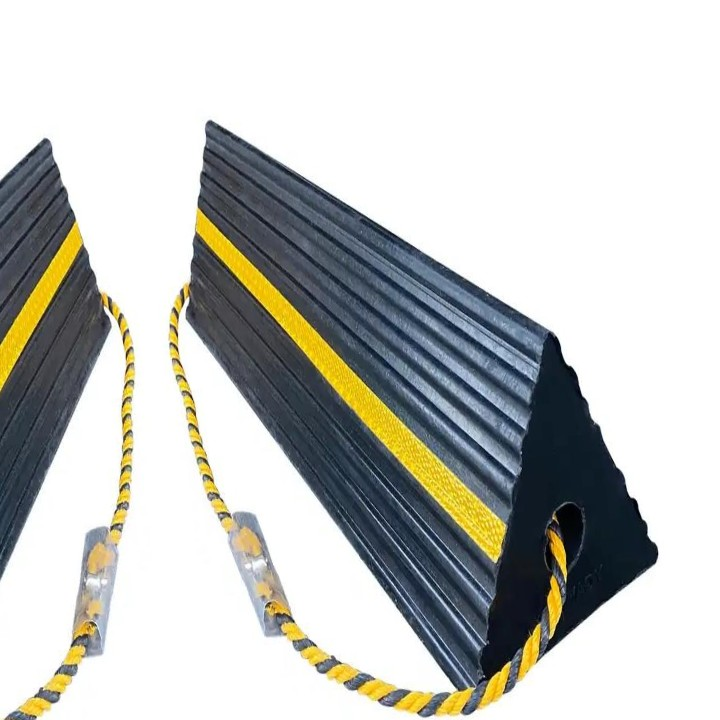chock: (161, 68, 676, 720)
